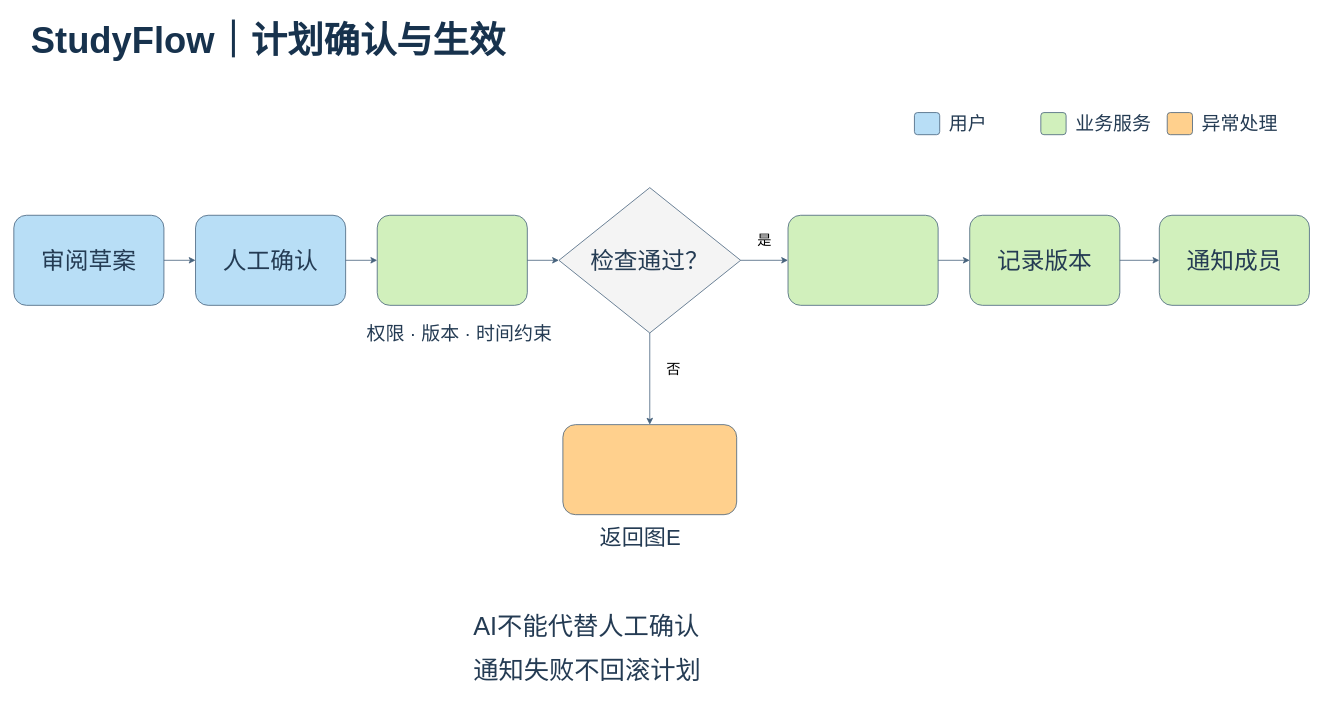
The diagram is 1323 pixels wide and 704 high, and some of its shapes have lost their labels. Each missing label, with the centre of its shape:
"拒绝并重算" goes at pixel 649 469.
"整体生效" goes at pixel 862 259.
"重新检查" goes at pixel 451 259.
